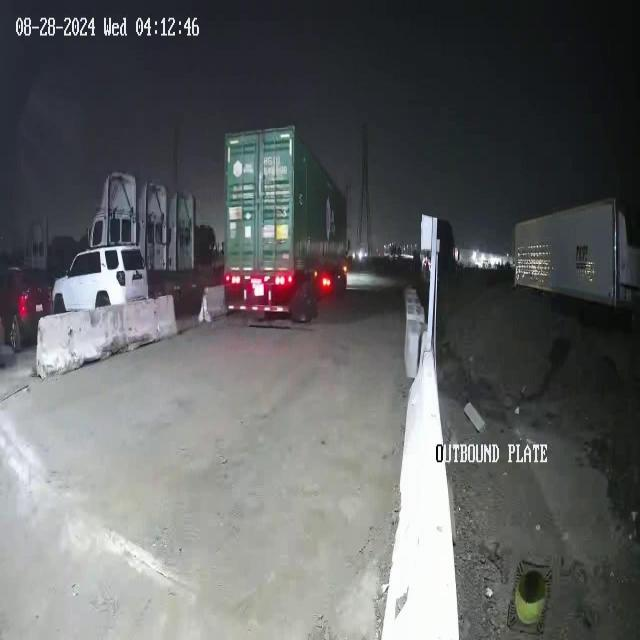TRUCK_IN: (223, 124, 349, 321)
